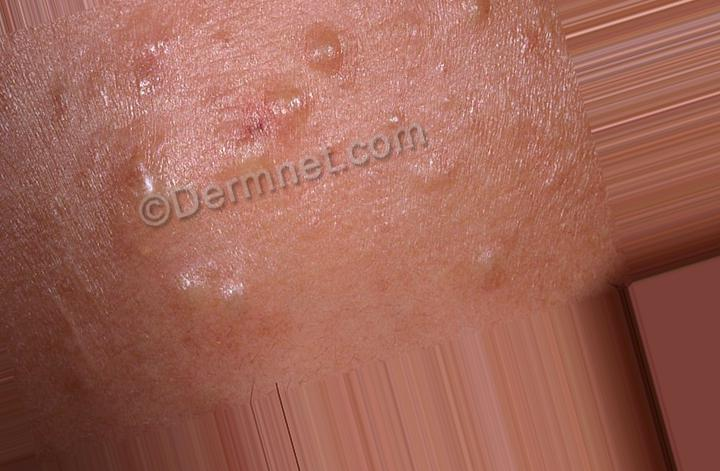Acne: (118, 159, 184, 234), (109, 26, 213, 66), (209, 130, 266, 194), (163, 275, 248, 310), (519, 16, 570, 72), (35, 66, 81, 126), (406, 148, 467, 190), (463, 233, 515, 282), (298, 28, 364, 66), (255, 90, 322, 127), (69, 365, 118, 401), (438, 3, 521, 23)
